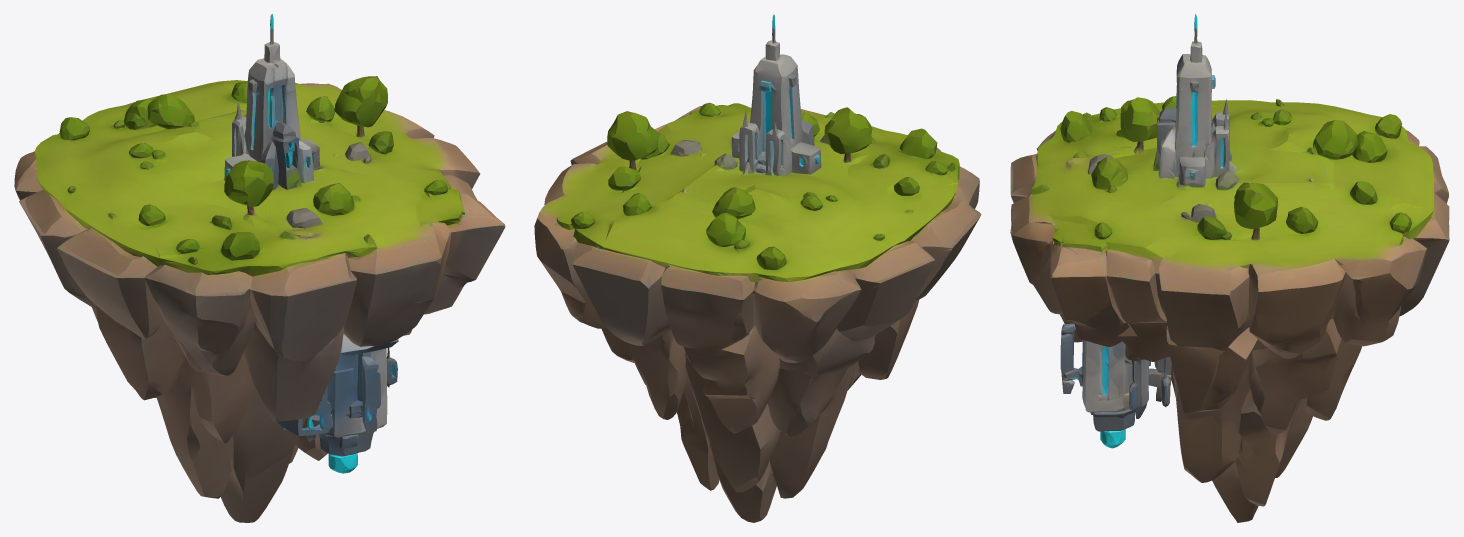
The picture shows the model from 3 angles, left to right: view 1: azimuth 30°, elevation 25°; view 2: azimuth 150°, elevation 25°; view 3: azimuth 270°, elevation 25°; orthographic projection. The views are drawn at different scales.
Parts seen in each view (by area): view 1: Mesh; view 2: Mesh; view 3: Mesh.
Part boxes in pixels (box(x1,y1,x2,y2)): Mesh: box(14, 14, 505, 522); Mesh: box(534, 14, 981, 522); Mesh: box(1010, 14, 1449, 522).
Size of the model in its own units: 1.54 by 1.91 by 1.5.
Materials: 1 (1 with a texture image).
